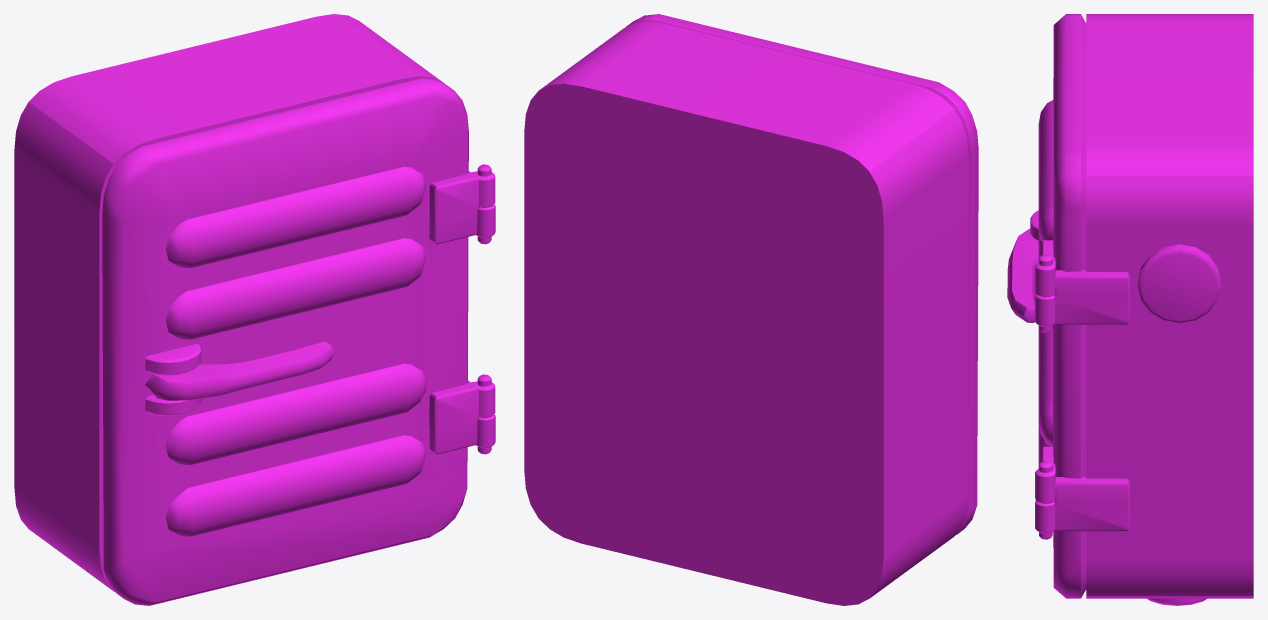
File: SM_FuseBox.FBX
3 views of the same model, side by side, from view 1: azimuth 30°, elevation 25°; view 2: azimuth 150°, elevation 25°; view 3: azimuth 270°, elevation 25° (orthographic).
Parts seen in each view (by area): view 1: FuseBox; view 2: FuseBox; view 3: FuseBox.
Boxes of the visible parts, x1,y1,x2,y2 form: FuseBox: (14,14,495,605); FuseBox: (524,14,978,605); FuseBox: (1007,14,1253,605).
Size of the model in its own units: 46.33 by 55.32 by 26.85.
